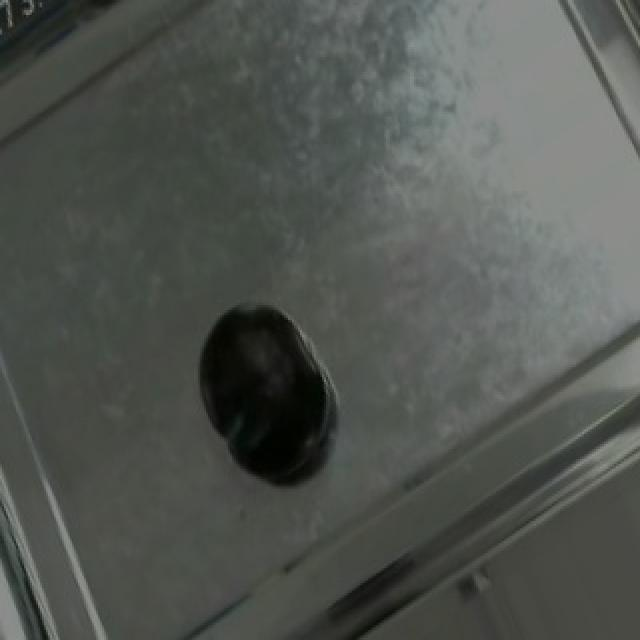Fruit: (178, 287, 338, 498)
